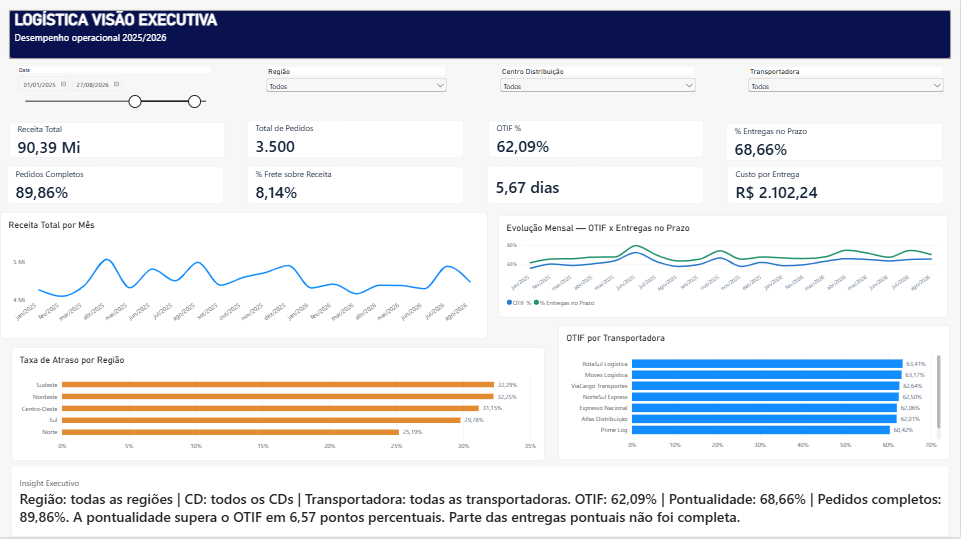

This screenshot's page, from the dashboard's own definition file:
{"tool":"powerbi","page":{"name":"Visão Executiva","canvas":[1920,1080],"ordinal":0},"visuals":[{"type":"lineChart","title":"Receita Total por Mês","fields":{"Category":["DimCalendario.Mes_Ano"],"Y":["Pedidos_Entregas.Receita Total"]},"box":[0,430,975,252.5],"z":0},{"type":"clusteredBarChart","title":"OTIF por Transportadora","fields":{"Category":["Transportadoras.Transportadora"],"Y":["Pedidos_Entregas.OTIF %"]},"box":[1115,655,782.5,270],"z":1000},{"type":"textbox","title":"LOGÍSTICA VISÃO EXECUTIVA","box":[17.6,26.4,1884,98],"z":3000},{"type":"cardVisual","title":"Receita Total","fields":{"Data":["Pedidos_Entregas.Receita Total"]},"box":[18,250,432,72],"z":4000},{"type":"cardVisual","fields":{"Data":["Pedidos_Entregas.OTIF %"]},"box":[976,246,432,76],"z":5000},{"type":"cardVisual","fields":{"Data":["Pedidos_Entregas.% Entregas no Prazo"]},"box":[1452,252,434,76],"z":6000},{"type":"cardVisual","fields":{"Data":["Pedidos_Entregas.% Frete sobre Receita"]},"box":[493.7,337.4,433.3,76],"z":7000},{"type":"cardVisual","fields":{"Data":["Pedidos_Entregas.Lead Time Formatado"]},"box":[973.8,337.4,433.3,76],"z":8000},{"type":"slicer","fields":{"Values":["Clientes.Regiao"]},"box":[527.5,140,370,105],"z":9000},{"type":"slicer","fields":{"Values":["Centros_Distribuicao.Centro_Distribuicao"]},"box":[995,140,400,105],"z":10000},{"type":"slicer","fields":{"Values":["Transportadoras.Transportadora"]},"box":[1492.5,140,400,105],"z":11000},{"type":"cardVisual","title":"Total de Pedidos","fields":{"Data":["Pedidos_Entregas.Total Pedidos Formatado"]},"box":[494,246,434,76],"z":12000},{"type":"cardVisual","fields":{"Data":["Pedidos_Entregas.% Pedidos Completos"]},"box":[13.9,337.4,433,76],"z":13000},{"type":"cardVisual","fields":{"Data":["Pedidos_Entregas.Custo por Entrega Formatado"]},"box":[1453.9,337.4,433.3,76],"z":14000},{"type":"lineChart","title":"Evolução Mensal — OTIF x Entregas no Prazo","fields":{"Category":["DimCalendario.Mes_Ano"],"Y":["Pedidos_Entregas.OTIF %","Pedidos_Entregas.% Entregas no Prazo"]},"box":[995,435,900,205],"z":15000},{"type":"clusteredBarChart","title":"Taxa de Atraso por Região ","fields":{"Category":["Clientes.Regiao"],"Y":["Pedidos_Entregas.% Entregas Atrasadas"]},"box":[22.5,700,1067.5,227.5],"z":16000},{"type":"cardVisual","fields":{"Data":["Estoque_Mensal.Insight Executivo"]},"box":[22,936,1876,144],"z":17000},{"type":"slicer","fields":{"Values":["DimCalendario.Data"]},"box":[30,140,400,105],"z":18000}]}

Visuals, with their boxes in screenshot pixels (x1, y1, x2, y2), scaled from the page's 1920x1080 canvas onto the 961x539 screenshot:
"Receita Total por Mês" lineChart: locate(0, 215, 488, 341)
"OTIF por Transportadora" clusteredBarChart: locate(558, 327, 950, 462)
"LOGÍSTICA VISÃO EXECUTIVA" textbox: locate(9, 13, 952, 62)
"Receita Total" cardVisual: locate(9, 125, 225, 161)
cardVisual - Pedidos_Entregas.OTIF %: locate(489, 123, 705, 161)
cardVisual - Pedidos_Entregas.% Entregas no Prazo: locate(727, 126, 944, 164)
cardVisual - Pedidos_Entregas.% Frete sobre Receita: locate(247, 168, 464, 206)
cardVisual - Pedidos_Entregas.Lead Time Formatado: locate(487, 168, 704, 206)
slicer - Clientes.Regiao: locate(264, 70, 449, 122)
slicer - Centros_Distribuicao.Centro_Distribuicao: locate(498, 70, 698, 122)
slicer - Transportadoras.Transportadora: locate(747, 70, 947, 122)
"Total de Pedidos" cardVisual: locate(247, 123, 464, 161)
cardVisual - Pedidos_Entregas.% Pedidos Completos: locate(7, 168, 224, 206)
cardVisual - Pedidos_Entregas.Custo por Entrega Formatado: locate(728, 168, 945, 206)
"Evolução Mensal — OTIF x Entregas no Prazo" lineChart: locate(498, 217, 948, 319)
"Taxa de Atraso por Região " clusteredBarChart: locate(11, 349, 546, 463)
cardVisual - Estoque_Mensal.Insight Executivo: locate(11, 467, 950, 538)
slicer - DimCalendario.Data: locate(15, 70, 215, 122)
